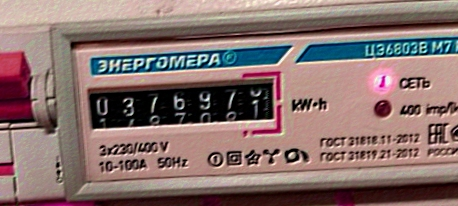0: (93, 95, 111, 117)
1: (250, 98, 262, 120)
3: (120, 95, 136, 119)
6: (172, 89, 187, 111)
7: (146, 90, 161, 115), (223, 87, 238, 111)
9: (197, 89, 212, 111)
screen: (80, 68, 288, 151)
